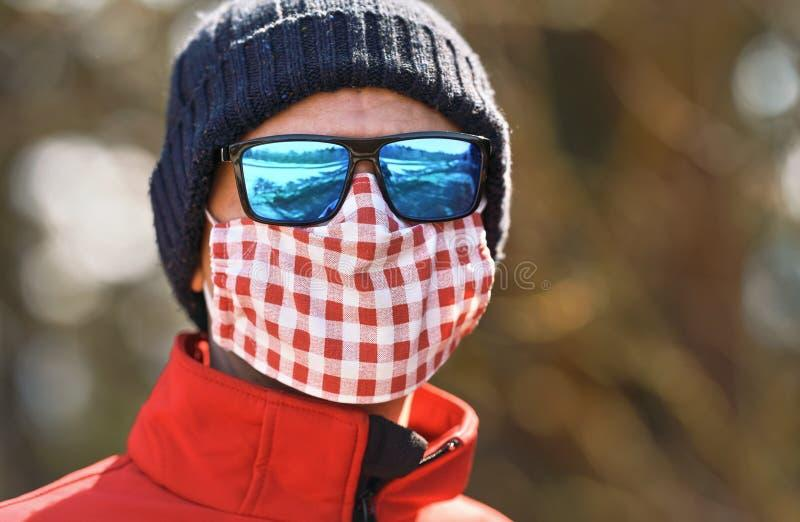cap: (141, 0, 544, 291)
mask: (199, 166, 507, 413)
sunglasses: (227, 119, 500, 240)
